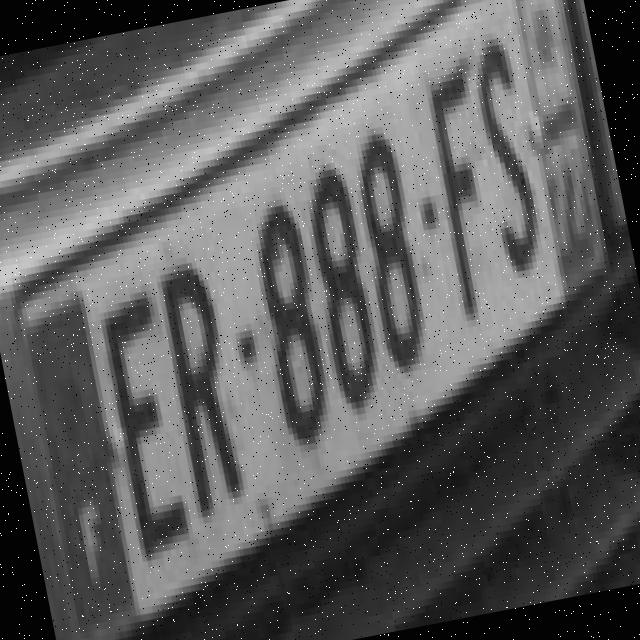EU: (23, 0, 607, 640)
France: (17, 297, 140, 640)
